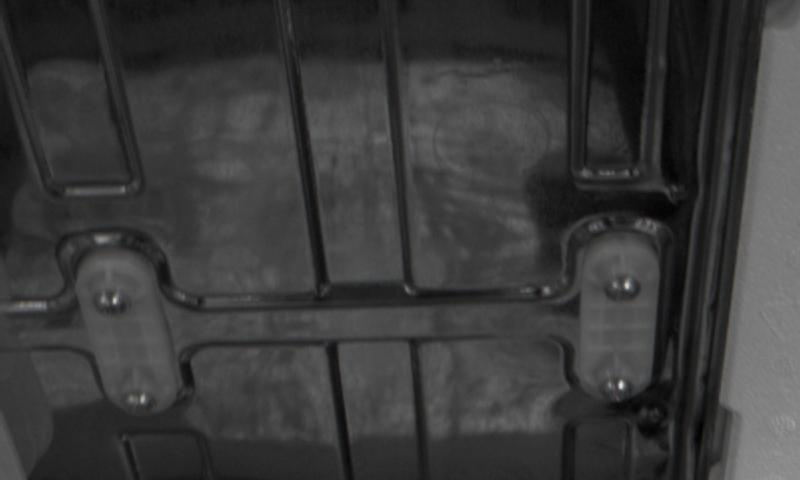vida-ok: (87, 279, 137, 325), (113, 386, 162, 425), (593, 371, 639, 412), (605, 267, 646, 310)
